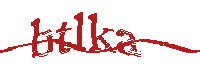a: (115, 28, 143, 57)
b: (29, 14, 54, 57)
k: (88, 11, 114, 55)
l: (73, 10, 88, 54)
t: (53, 19, 73, 56)
